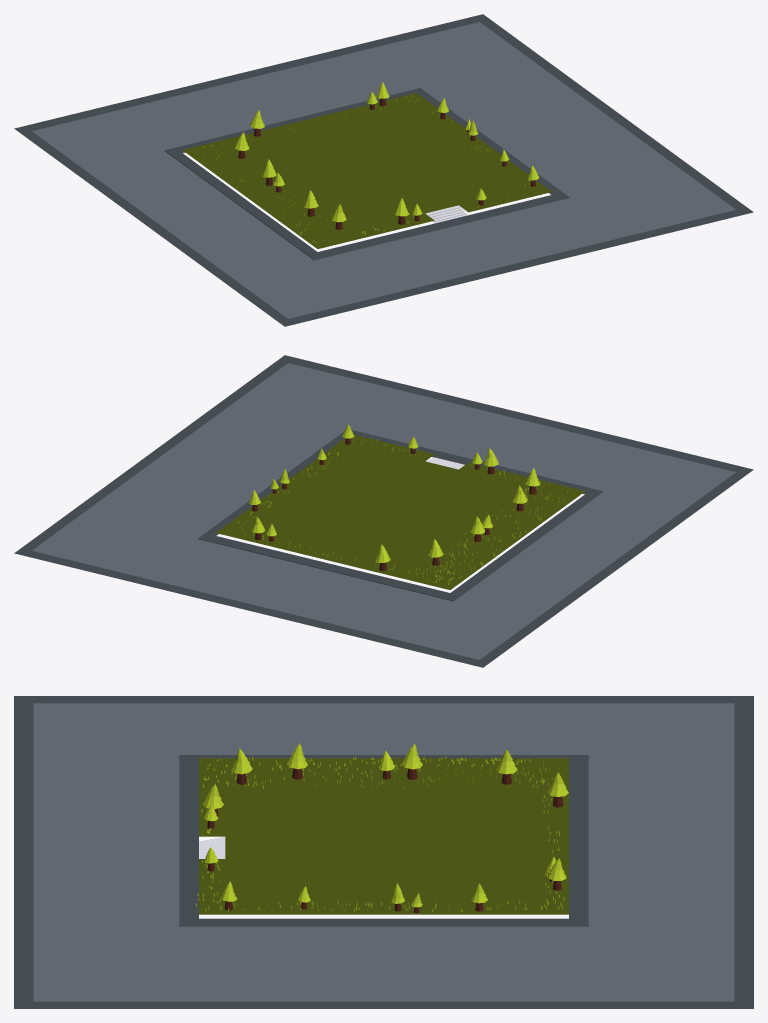
The model's file is 1_EnvironmentBase.fbx.
3 renders of one model, top to bottom at view 1: azimuth 30°, elevation 25°; view 2: azimuth 150°, elevation 25°; view 3: azimuth 270°, elevation 25°, orthographic. The views are drawn at different scales.
Parts seen in each view (by area): view 1: 0_GrassBase.001, 0_GrassBase, 0_Trees, 0_Grass.001; view 2: 0_GrassBase.001, 0_GrassBase, 0_Trees, 0_Grass.001; view 3: 0_GrassBase.001, 0_GrassBase, 0_Trees, 0_Grass.001.
Part boxes in pixels (x1,y1,x2,y2): 0_GrassBase.001: (14,14,753,326); 0_GrassBase: (182,93,551,248); 0_Trees: (234,82,539,229); 0_Grass.001: (193,94,544,243); 0_GrassBase.001: (14,355,753,667); 0_GrassBase: (216,434,585,589); 0_Trees: (249,424,540,571); 0_Grass.001: (225,433,574,584); 0_GrassBase.001: (14,696,753,1008); 0_GrassBase: (199,758,568,914); 0_Trees: (202,743,568,913); 0_Grass.001: (196,755,564,911).
Bounding box in the file's own units: 14000 × 14000 × 829.
